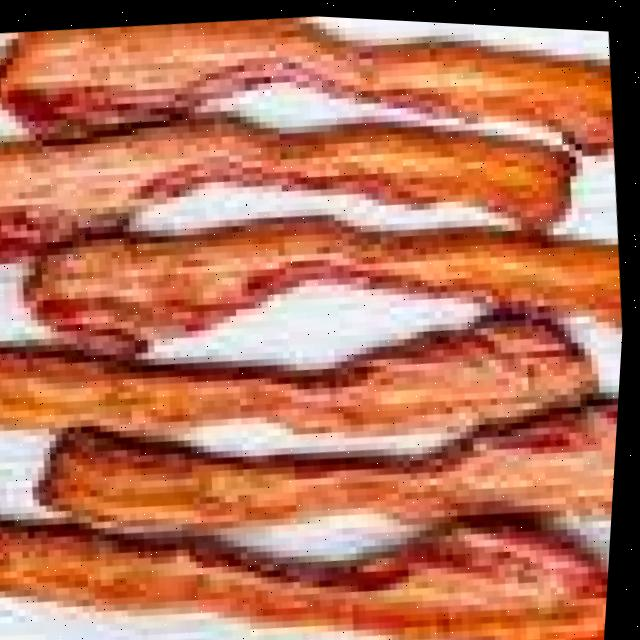Bacon: (0, 120, 574, 259), (28, 220, 623, 352), (0, 13, 615, 139), (0, 519, 615, 640), (42, 398, 623, 525), (0, 316, 598, 432)
